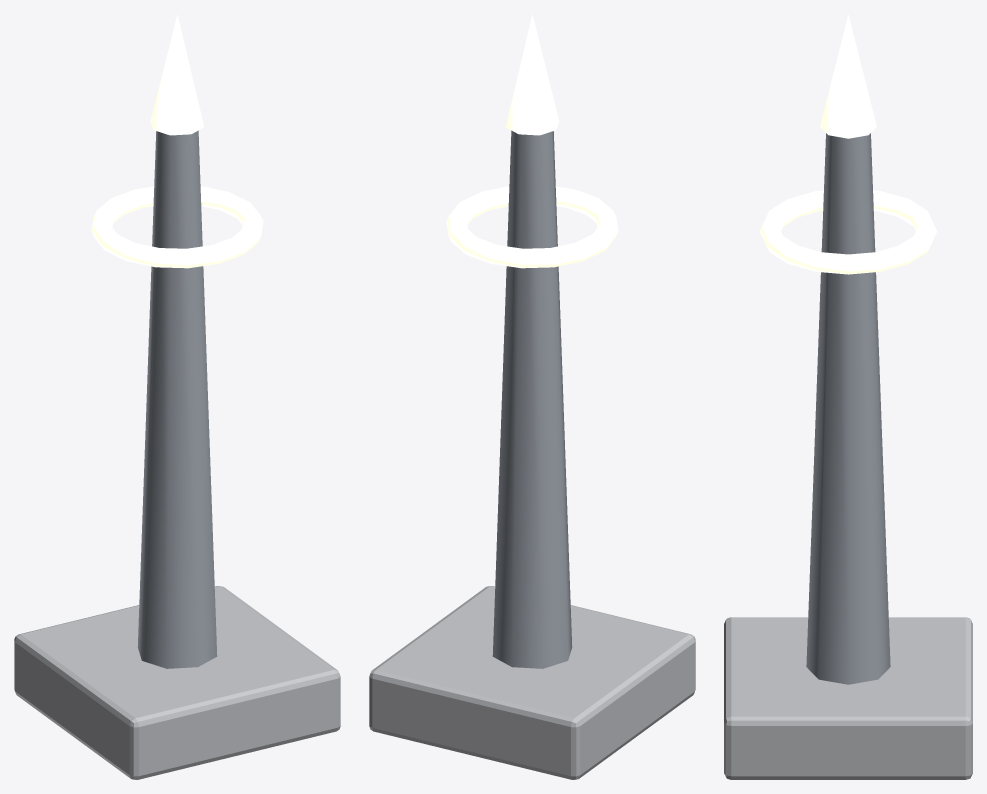
File: ENV_Thunder_Spire.fbx
The picture shows the model from 3 angles, left to right: view 1: azimuth 30°, elevation 25°; view 2: azimuth 150°, elevation 25°; view 3: azimuth 270°, elevation 25°; orthographic projection. The views are drawn at different scales.
Visible parts, largest first — view 1: ENV_Thunder_Spire; view 2: ENV_Thunder_Spire; view 3: ENV_Thunder_Spire.
Part boxes in pixels (x1=…): ENV_Thunder_Spire: x1=14, y1=14, x2=340, y2=779; ENV_Thunder_Spire: x1=369, y1=14, x2=695, y2=779; ENV_Thunder_Spire: x1=724, y1=14, x2=972, y2=779.
Bounding box in the file's own units: 0.7 × 2.22 × 0.7.
